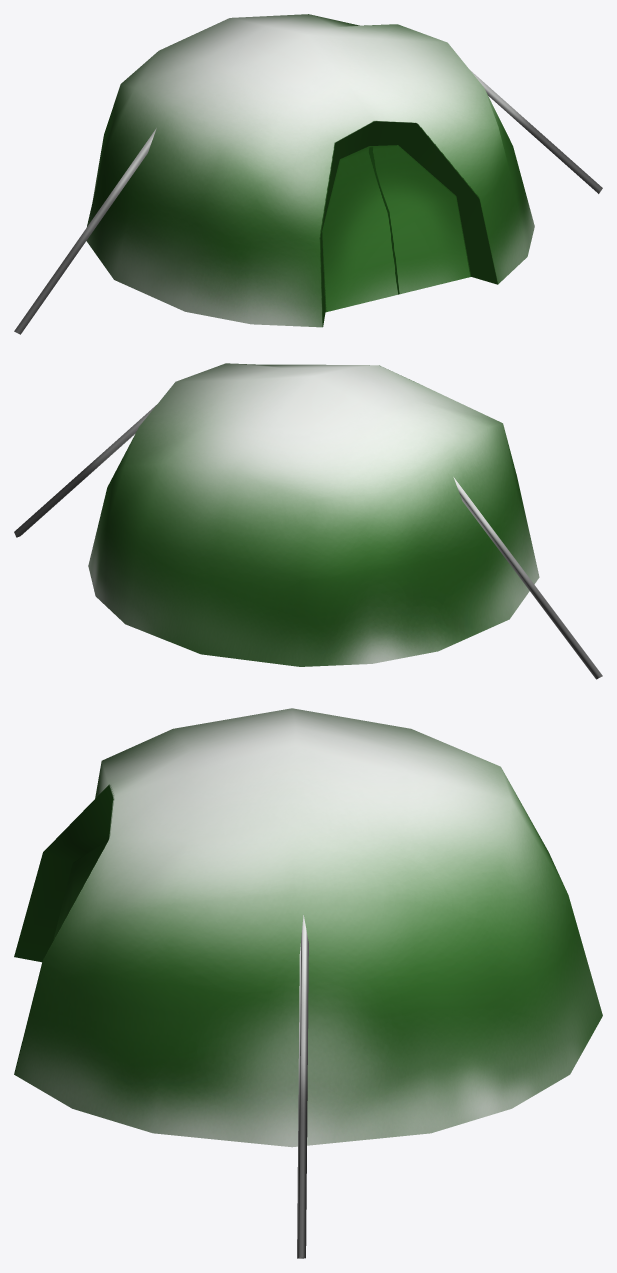
File: Tent_TEX.FBX
The picture shows the model from 3 angles, top to bottom: view 1: azimuth 30°, elevation 25°; view 2: azimuth 150°, elevation 25°; view 3: azimuth 270°, elevation 25°; orthographic projection. The views are drawn at different scales.
Parts seen in each view (by area): view 1: Box043; view 2: Box043; view 3: Box043.
Boxes of the visible parts, box(x1,y1,x2,y2) form: Box043: box(14, 14, 602, 334); Box043: box(14, 363, 602, 679); Box043: box(14, 708, 602, 1258).
Size of the model in its own units: 46.31 by 17.31 by 29.14.
1 material, 1 textured.
